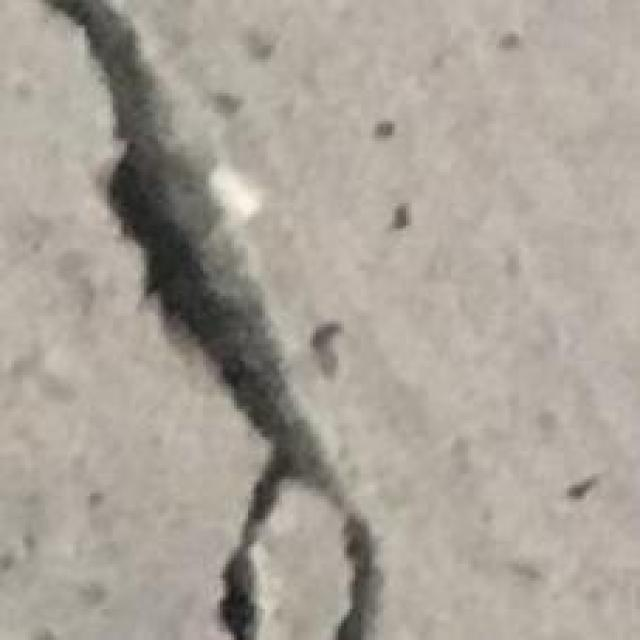Crack: (45, 11, 395, 640)
